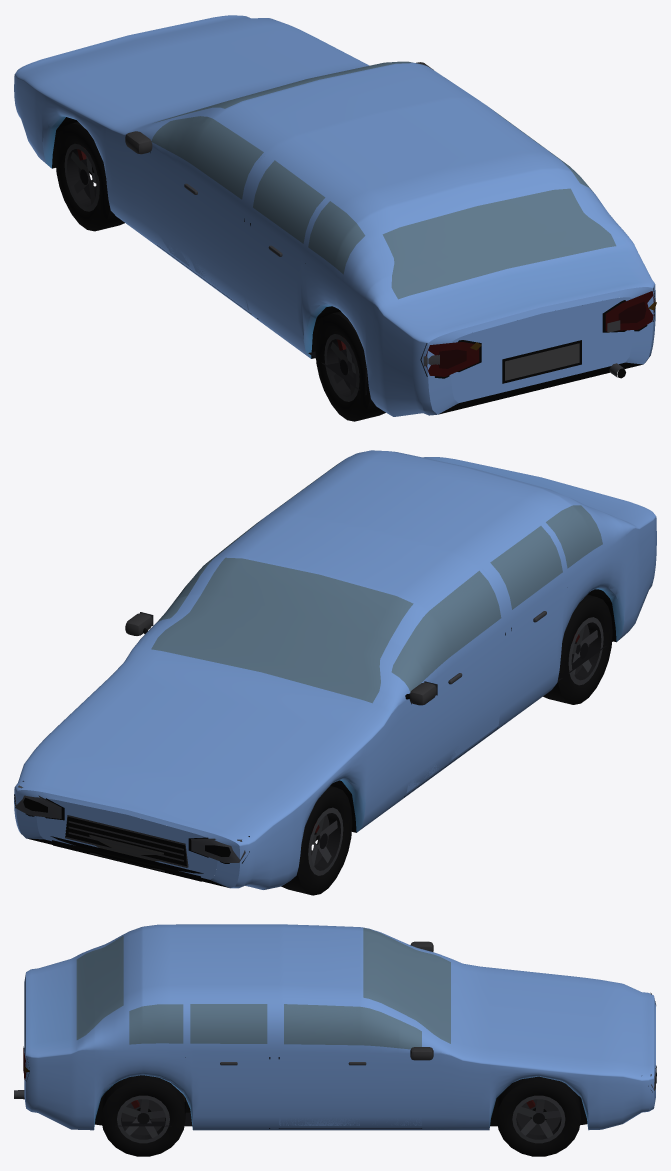
Rendered from cv2_limo.glb.
3 views of the same model, one above another, from view 1: azimuth 30°, elevation 25°; view 2: azimuth 150°, elevation 25°; view 3: azimuth 270°, elevation 25° (orthographic). The views are drawn at different scales.
Visible parts, largest first — view 1: Body, DoorL_Mesh; view 2: Body, DoorL_Mesh; view 3: Body, DoorR_Mesh.
Part boxes in pixels (box(x1,y1,x2,y2)): Body: box(14, 15, 656, 421); DoorL_Mesh: box(150, 116, 264, 309); Body: box(14, 450, 656, 895); DoorL_Mesh: box(392, 568, 505, 792); Body: box(14, 924, 656, 1156); DoorR_Mesh: box(279, 1004, 421, 1125).
Size of what is drawn, in the model's own units: 2.25 by 1.49 by 5.5.
